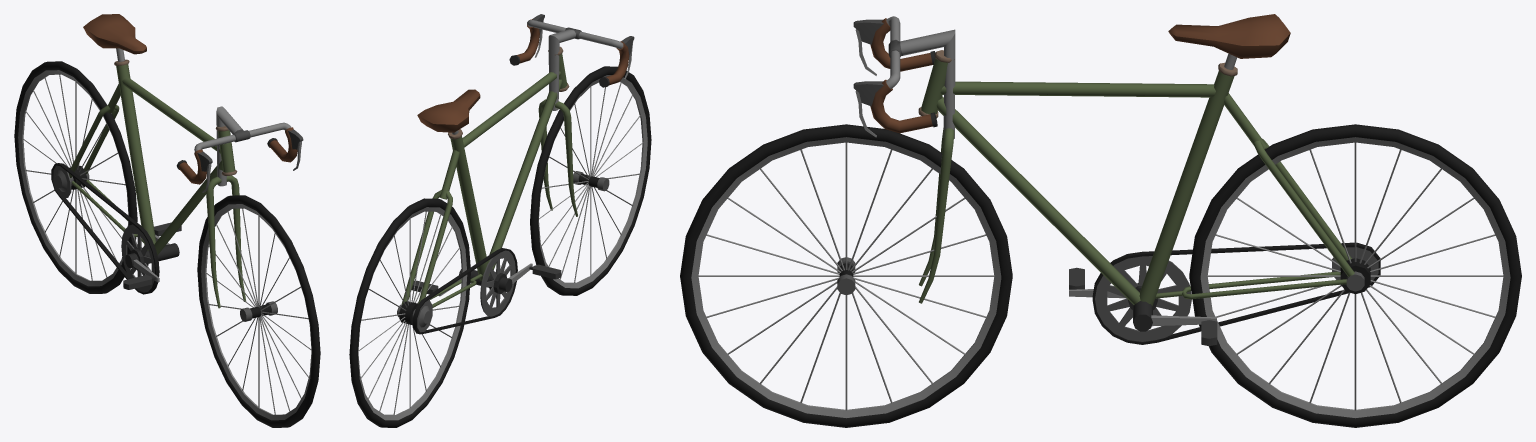
Rendered from SM_Vehicles_ Bike_01_V1.fbx.
3 renders of one model, left to right at view 1: azimuth 30°, elevation 25°; view 2: azimuth 150°, elevation 25°; view 3: azimuth 270°, elevation 25°, orthographic. The views are drawn at different scales.
Visible parts, largest first — view 1: SM_Vehicles_ Bike_01_V1, SM_Vehicles_ Bike_01_F, SM_Vehicles_ Bike_01_B, SM_Vehicles_ Bike_01_V1_Steering_Wheel, SM_Vehicles_ Bike_01_Pedals; view 2: SM_Vehicles_ Bike_01_V1, SM_Vehicles_ Bike_01_B, SM_Vehicles_ Bike_01_F, SM_Vehicles_ Bike_01_V1_Steering_Wheel, SM_Vehicles_ Bike_01_Pedals; view 3: SM_Vehicles_ Bike_01_F, SM_Vehicles_ Bike_01_B, SM_Vehicles_ Bike_01_V1, SM_Vehicles_ Bike_01_V1_Steering_Wheel, SM_Vehicles_ Bike_01_Pedals.
Part boxes in pixels (<box>): SM_Vehicles_ Bike_01_V1: <box>51,14,237,294</box>; SM_Vehicles_ Bike_01_F: <box>197,195,320,427</box>; SM_Vehicles_ Bike_01_B: <box>14,61,137,293</box>; SM_Vehicles_ Bike_01_V1_Steering_Wheel: <box>176,106,303,308</box>; SM_Vehicles_ Bike_01_Pedals: <box>121,222,181,292</box>; SM_Vehicles_ Bike_01_V1: <box>401,46,569,334</box>; SM_Vehicles_ Bike_01_B: <box>349,198,470,427</box>; SM_Vehicles_ Bike_01_F: <box>530,66,651,295</box>; SM_Vehicles_ Bike_01_V1_Steering_Wheel: <box>509,14,634,216</box>; SM_Vehicles_ Bike_01_Pedals: <box>411,250,561,316</box>; SM_Vehicles_ Bike_01_F: <box>680,124,1012,427</box>; SM_Vehicles_ Bike_01_B: <box>1189,124,1521,427</box>; SM_Vehicles_ Bike_01_V1: <box>918,14,1380,344</box>; SM_Vehicles_ Bike_01_V1_Steering_Wheel: <box>853,16,955,303</box>; SM_Vehicles_ Bike_01_Pedals: <box>1069,256,1217,346</box>.
Bounding box in the file's own units: 0.3736 × 0.9914 × 1.87.
